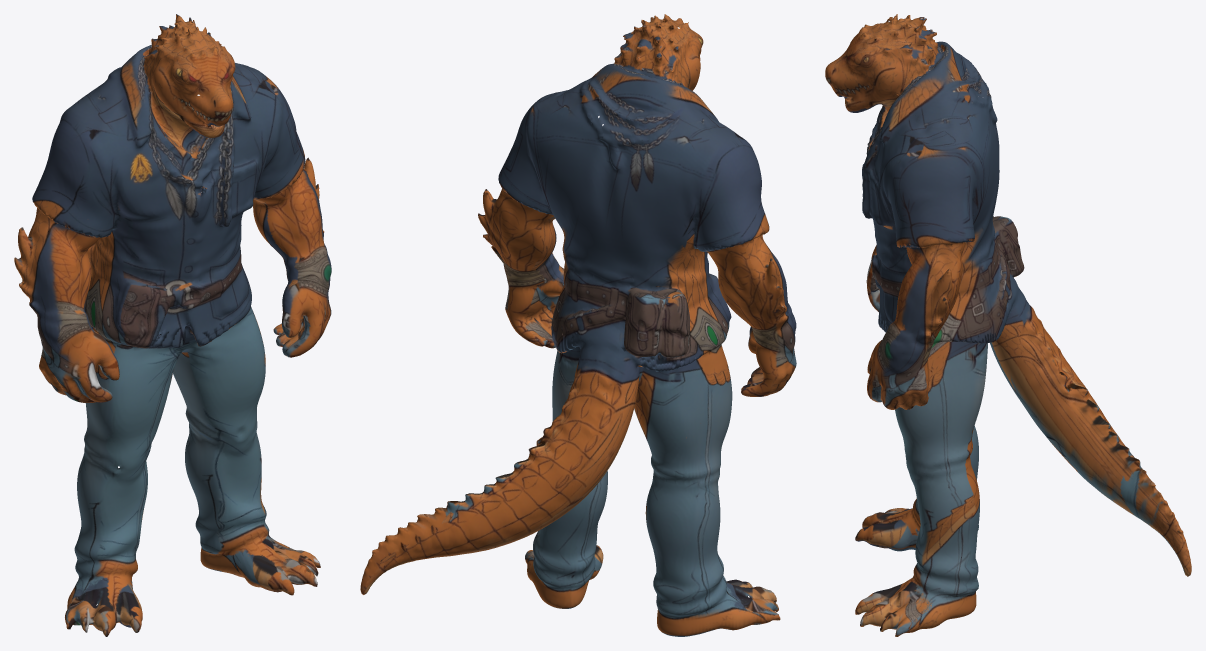
Rendered from croc_hunyuan_textured_v4_smooth.glb.
3 renders of one model, left to right at view 1: azimuth 30°, elevation 25°; view 2: azimuth 150°, elevation 25°; view 3: azimuth 270°, elevation 25°, orthographic. The views are drawn at different scales.
Visible parts, largest first — view 1: geometry_0; view 2: geometry_0; view 3: geometry_0.
Boxes of the visible parts, box(x1,y1,x2,y2) form: geometry_0: box(14, 14, 331, 636); geometry_0: box(360, 14, 796, 636); geometry_0: box(825, 14, 1191, 636).
Bounding box in the file's own units: 1.08 × 1.96 × 1.16.
1 material, 1 textured.
